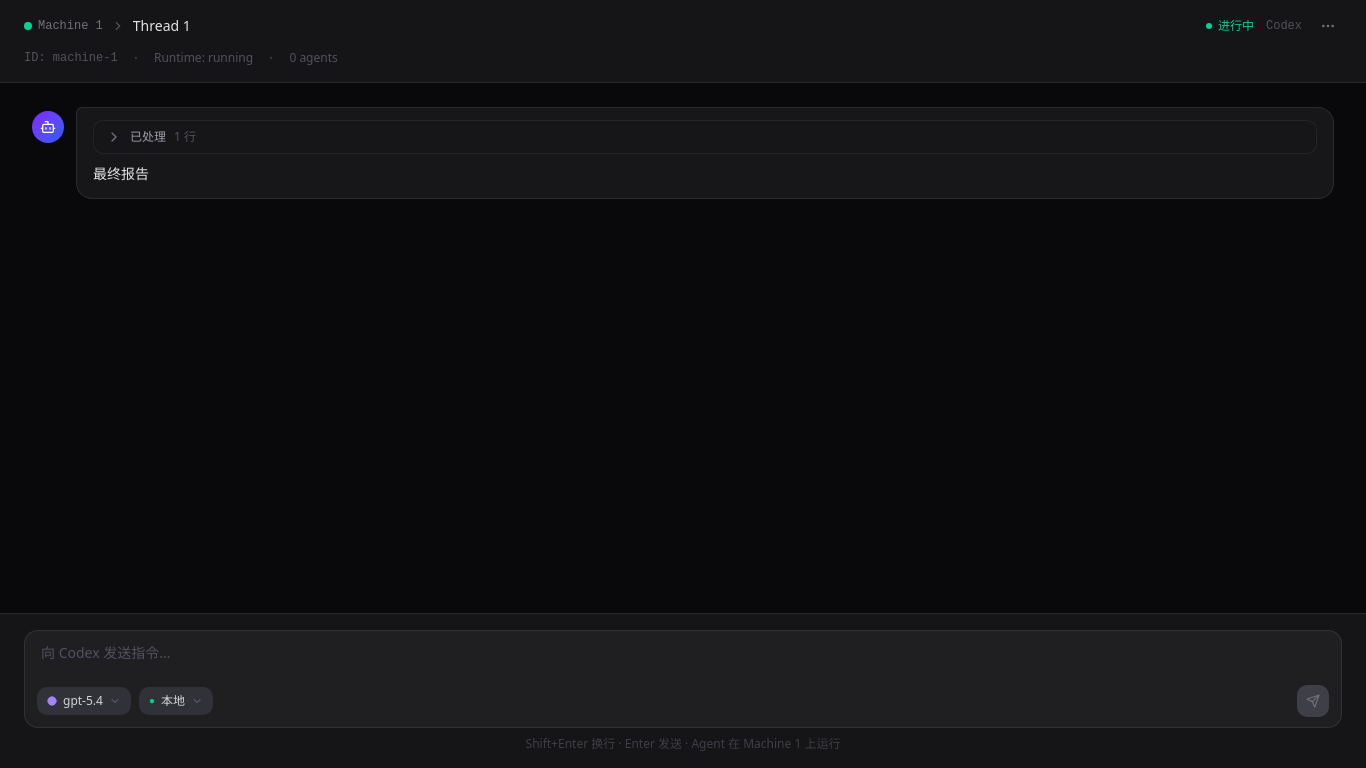
Test: keeps completed progress collapsed beside the final answer
This screenshot has width=1366, height=768.
Expected: the text "最终报告" is shown, x1=93 y1=164 x2=149 y2=183
Expected: the text "我先查资料" is not shown
Click the text "已处理" at x=148, y=137, box x1=130 y1=129 x2=166 y2=145
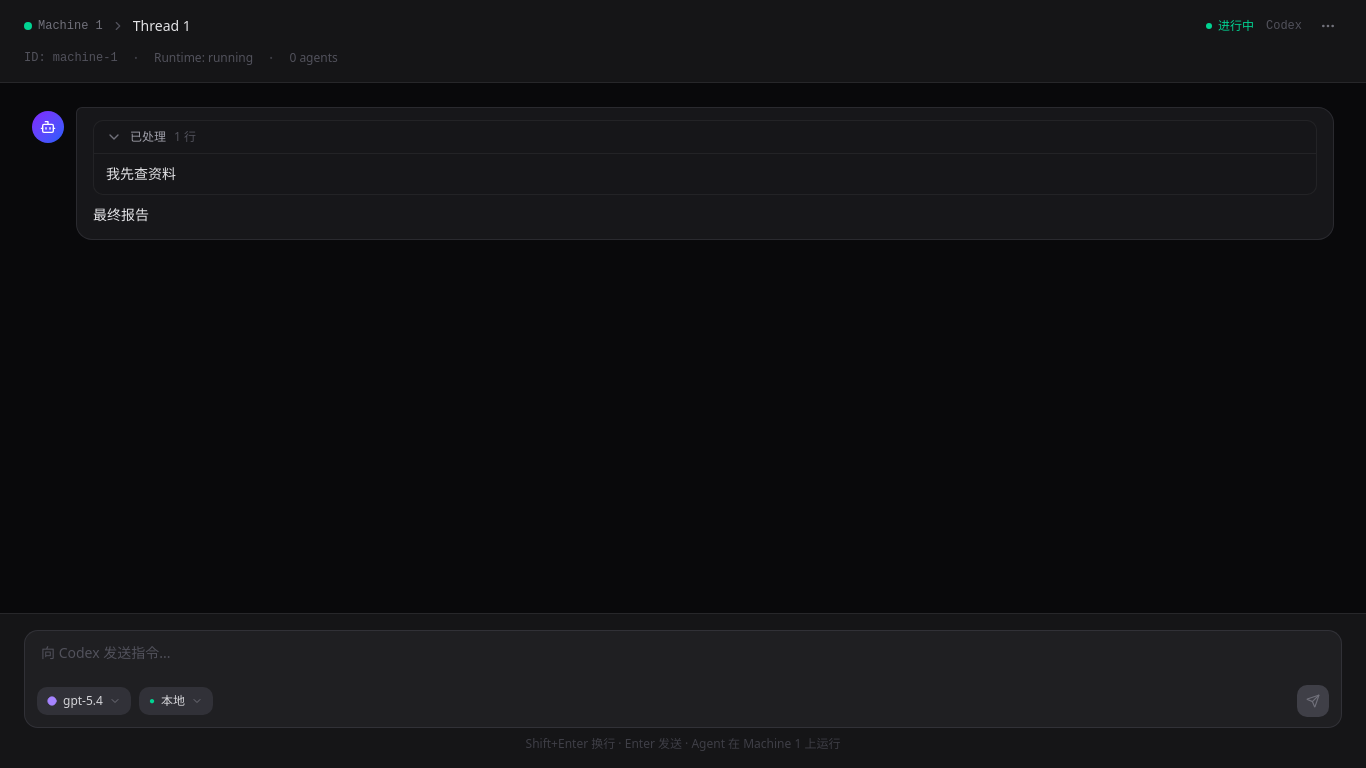
Expected: the text "我先查资料" is shown, x1=106 y1=164 x2=176 y2=183
